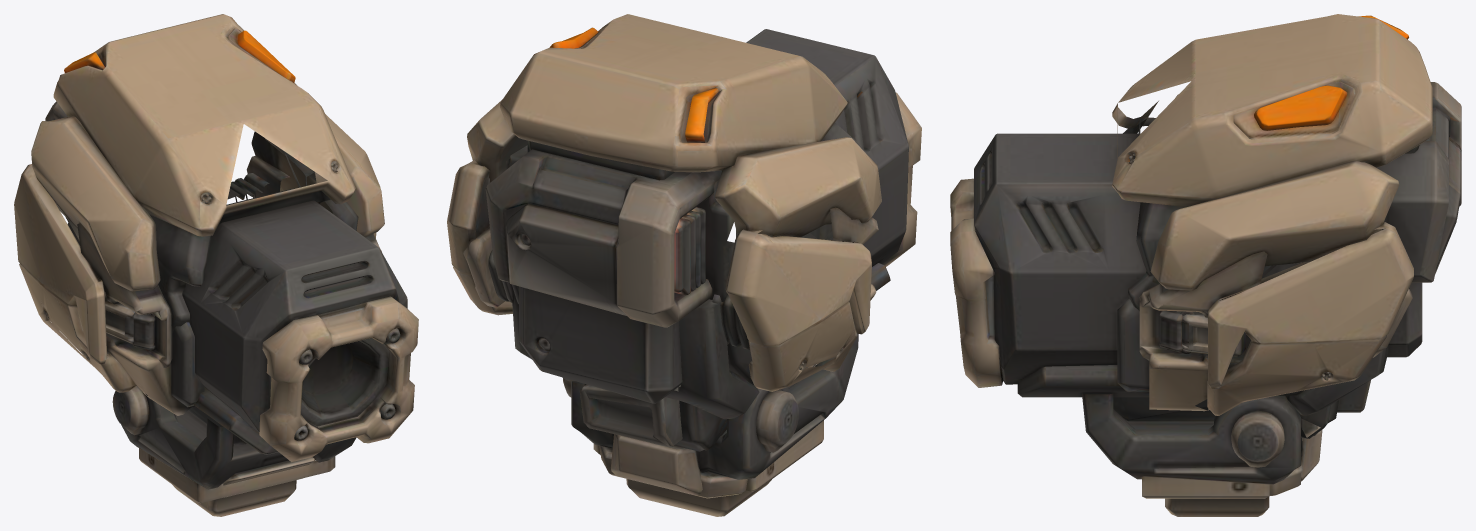
The model's file is 13_WPN_Short_Cannon_Pod.glb.
3 views of the same model, side by side, from view 1: azimuth 30°, elevation 25°; view 2: azimuth 150°, elevation 25°; view 3: azimuth 270°, elevation 25° (orthographic). The views are drawn at different scales.
Parts seen in each view (by area): view 1: 13_WPN_Short_Cannon_Pod; view 2: 13_WPN_Short_Cannon_Pod; view 3: 13_WPN_Short_Cannon_Pod.
Boxes of the visible parts, x1,y1,x2,y2 form: 13_WPN_Short_Cannon_Pod: (14, 14, 418, 516); 13_WPN_Short_Cannon_Pod: (447, 14, 921, 516); 13_WPN_Short_Cannon_Pod: (950, 14, 1461, 516).
Size of the model in its own units: 0.7192 by 0.9731 by 0.9995.
Materials: 1 (1 with a texture image).
